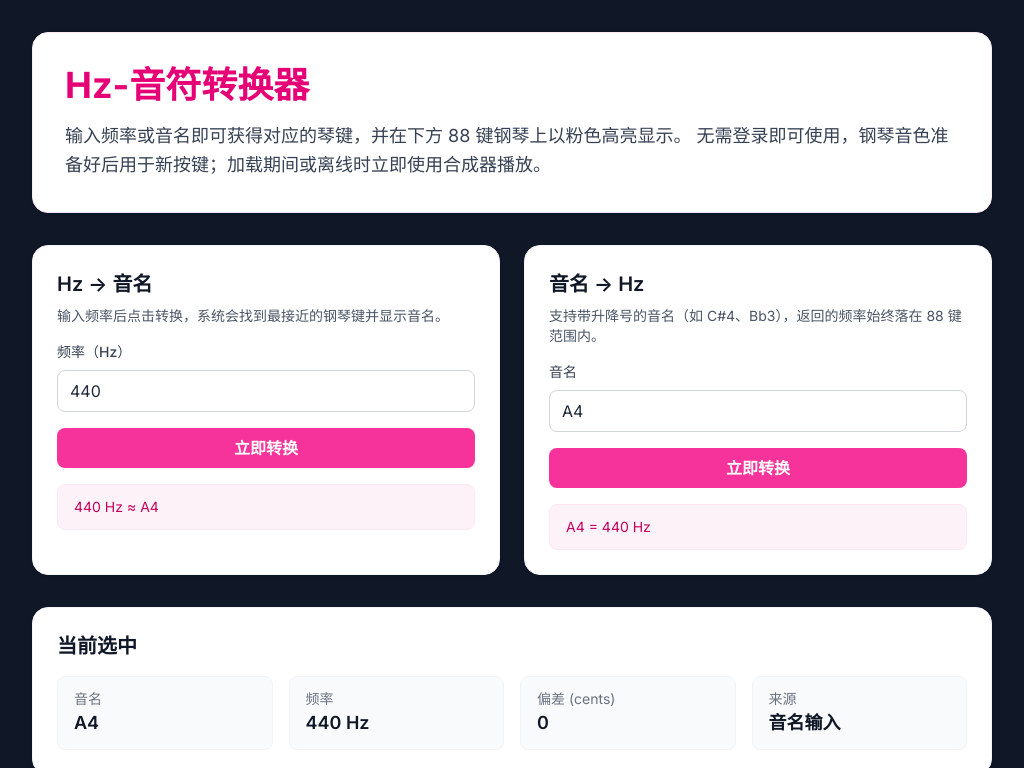
StrictMode重复设置后表单仍能转换
Step 1. Replace the text in the field labelled "频率（Hz）" with "220" → (266, 390), box [57, 370, 475, 412]
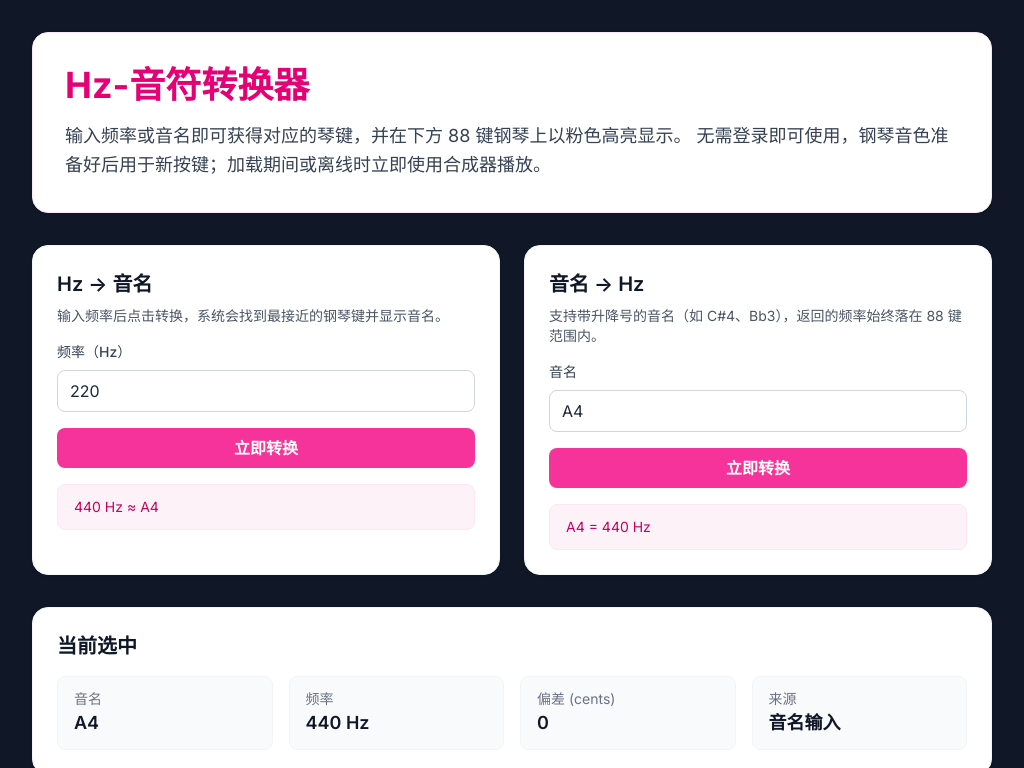
Step 2. Submit the form "频率（Hz）", box [32, 244, 500, 574]
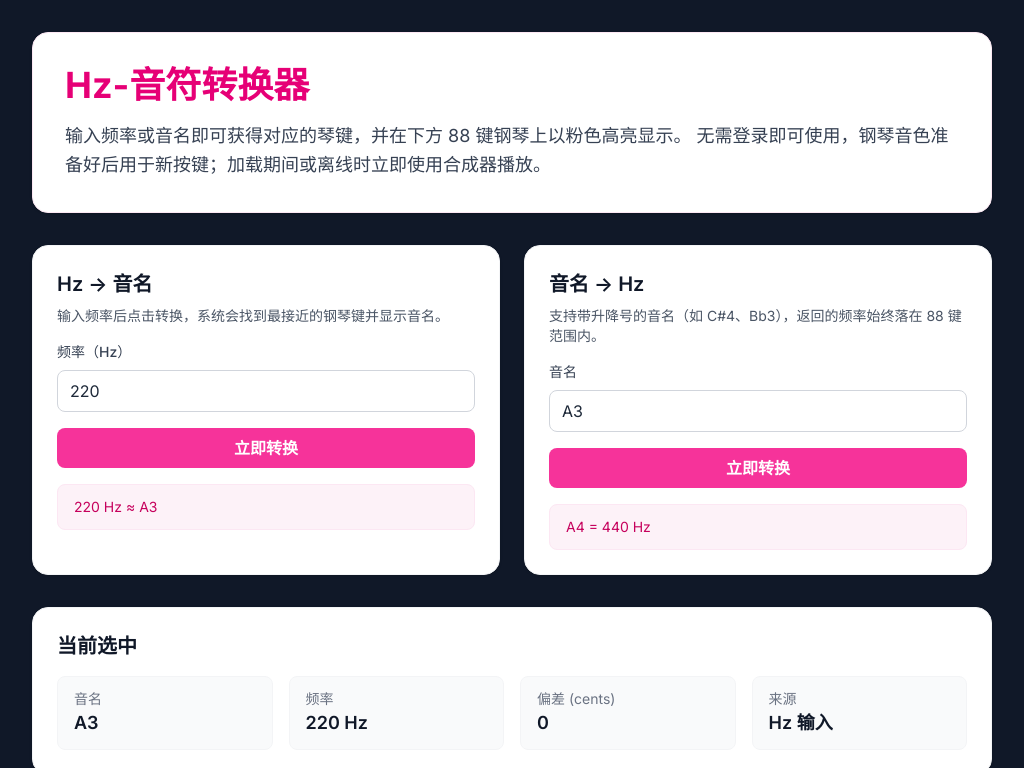
Expected: the field labelled "音名" holds "A3", [549, 390, 967, 432]
